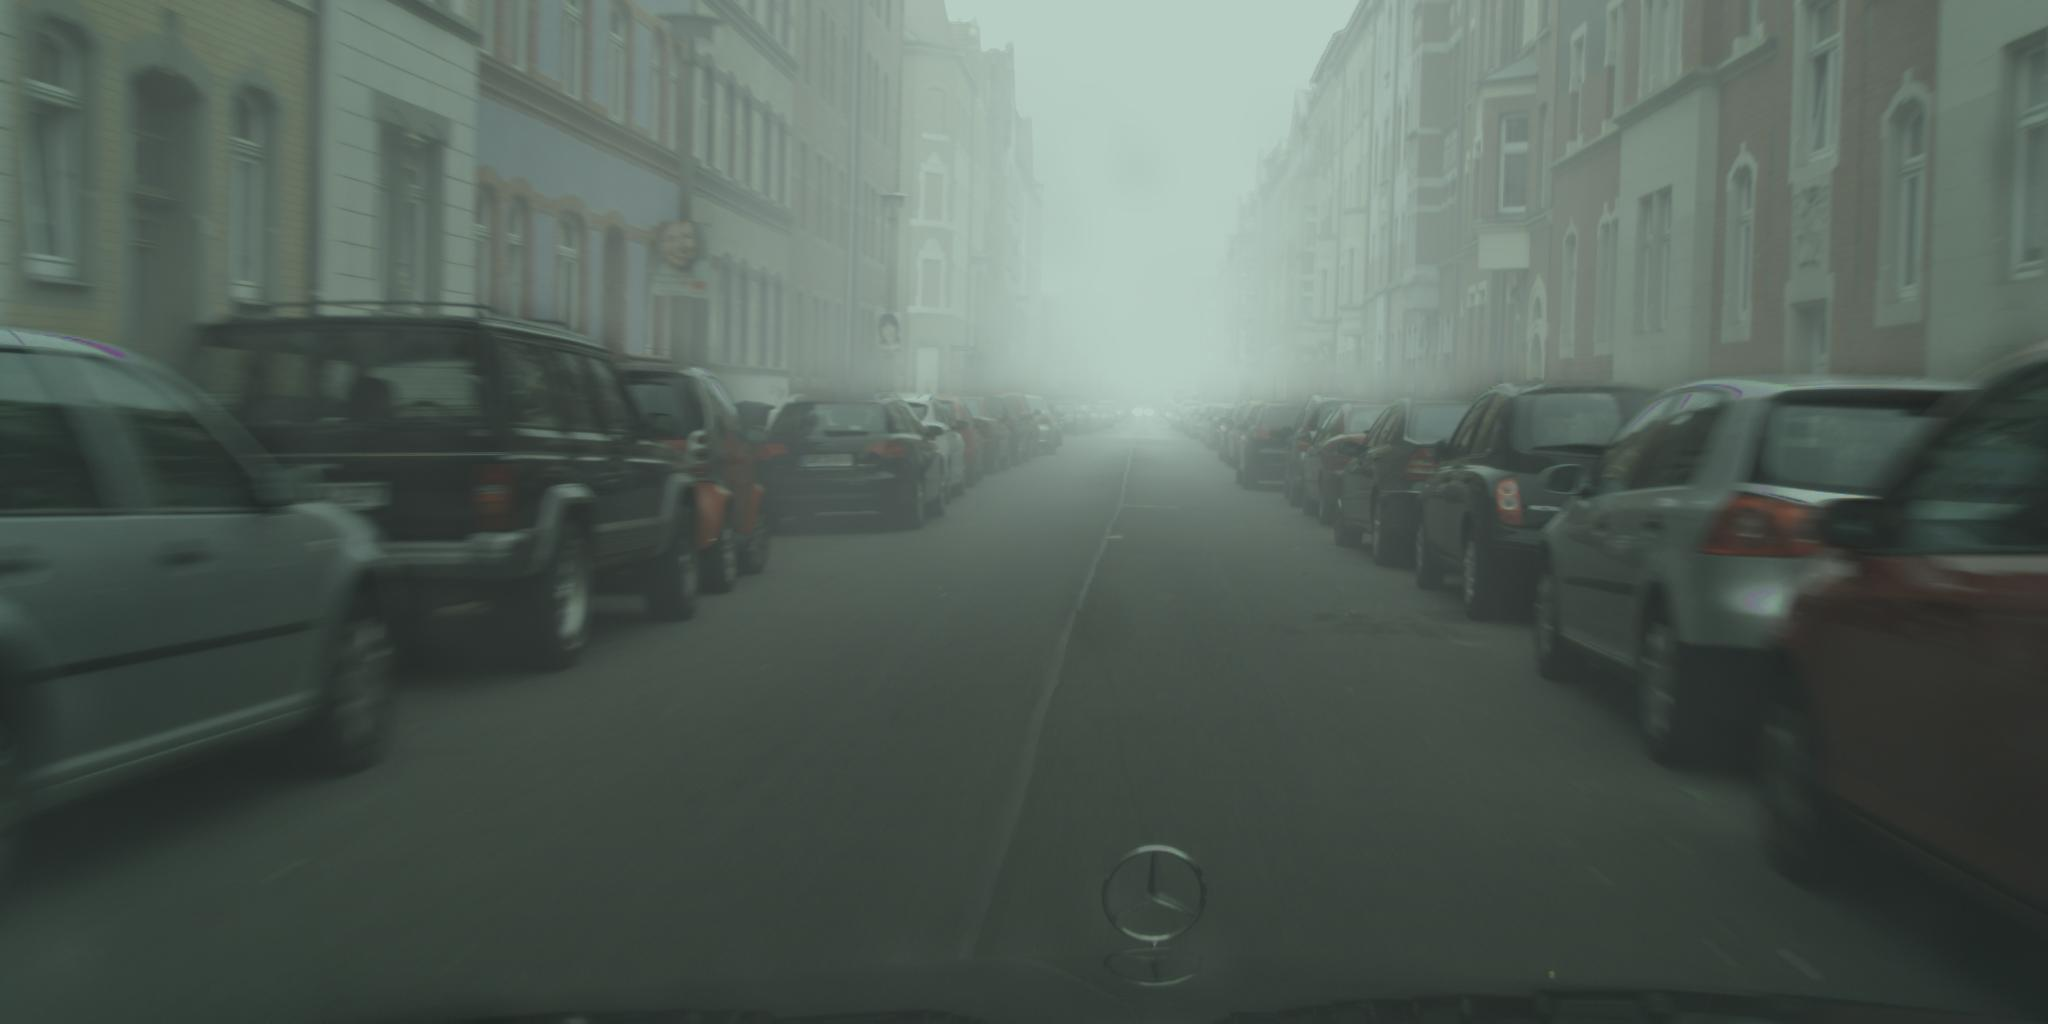car: (1, 325, 406, 905), (178, 299, 701, 674), (1529, 375, 2004, 777), (1752, 340, 2048, 948), (1411, 380, 1668, 622), (613, 360, 772, 598), (754, 393, 951, 537), (1332, 396, 1479, 572), (1296, 404, 1388, 529), (870, 392, 970, 502), (1283, 396, 1377, 508), (1234, 404, 1314, 494), (926, 394, 993, 491), (951, 397, 1017, 477), (981, 394, 1034, 468), (1223, 402, 1273, 468), (1021, 393, 1061, 457), (1008, 393, 1044, 462), (1131, 404, 1156, 419)
